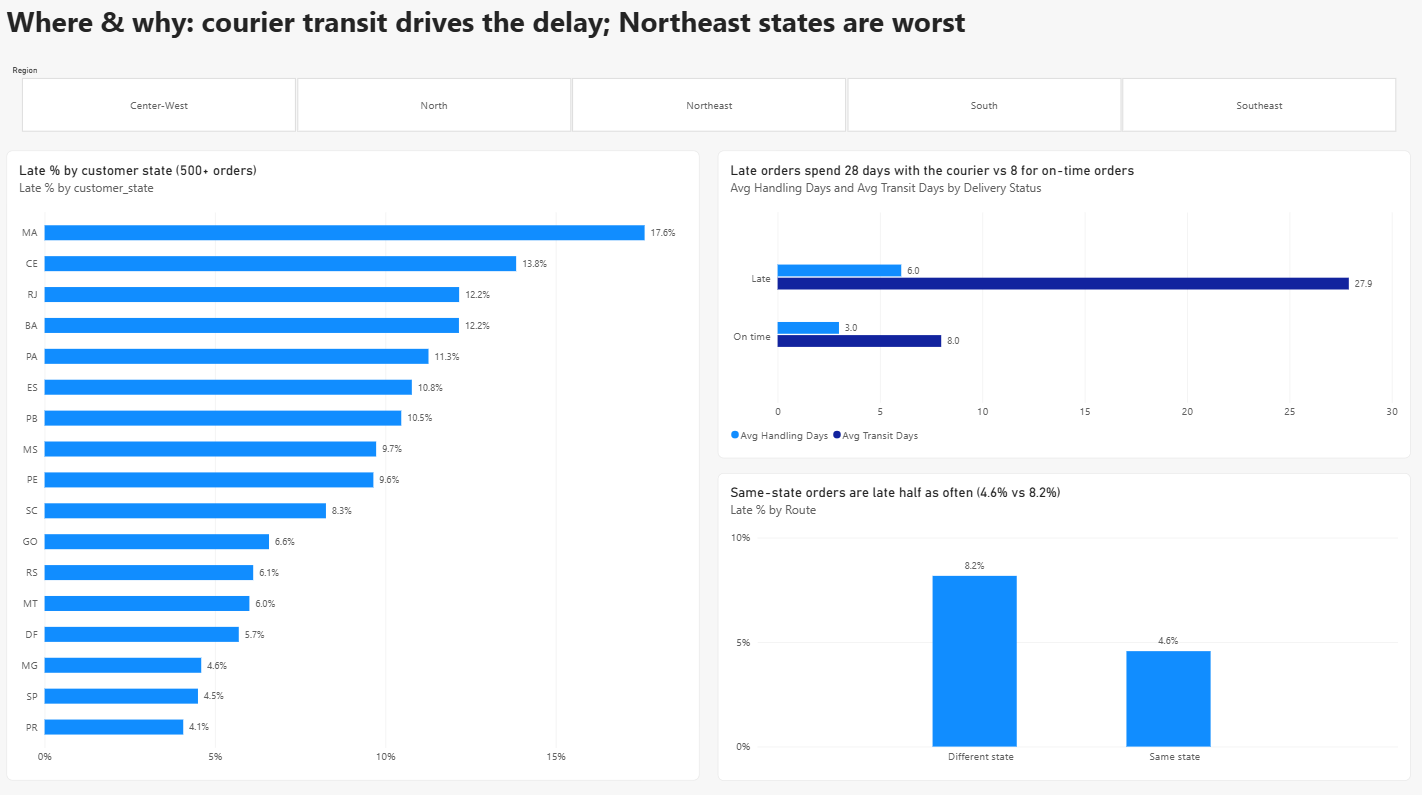

What the dashboard file says about the page in this screenshot:
{"tool":"powerbi","page":{"name":"Where & why","canvas":[1920,1080],"ordinal":1},"visuals":[{"type":"textbox","box":[24,12,1872,72],"z":0},{"type":"slicer","fields":{"Values":["vw_delivered_orders.Region"]},"box":[24,96,1872,90],"z":1000},{"type":"clusteredBarChart","title":"Late % by customer state (500+ orders)","fields":{"Category":["vw_delivered_orders.customer_state"],"Y":["_Measures.Late %"]},"box":[24,210,924,840],"z":2000},{"type":"clusteredBarChart","title":"Late orders spend 28 days with the courier vs 8 for on-time orders","fields":{"Category":["vw_delivered_orders.Delivery Status"],"Y":["_Measures.Avg Handling Days","_Measures.Avg Transit Days"]},"box":[972,210,924,410],"z":3000},{"type":"clusteredColumnChart","title":"Same-state orders are late half as often (4.6% vs 8.2%)","fields":{"Category":["vw_delivered_orders.Route"],"Y":["_Measures.Late %"]},"box":[972,640,924,410],"z":4000}]}

Visuals, with their boxes in screenshot pixels (x1, y1, x2, y2), scaled from the page's 1920x1080 canvas onto the 1422x795 screenshot:
textbox: pyautogui.locateOnScreen(18, 9, 1404, 62)
slicer - vw_delivered_orders.Region: pyautogui.locateOnScreen(18, 71, 1404, 137)
"Late % by customer state (500+ orders)" clusteredBarChart: pyautogui.locateOnScreen(18, 155, 702, 773)
"Late orders spend 28 days with the courier vs 8 for on-time orders" clusteredBarChart: pyautogui.locateOnScreen(720, 155, 1404, 456)
"Same-state orders are late half as often (4.6% vs 8.2%)" clusteredColumnChart: pyautogui.locateOnScreen(720, 471, 1404, 773)
